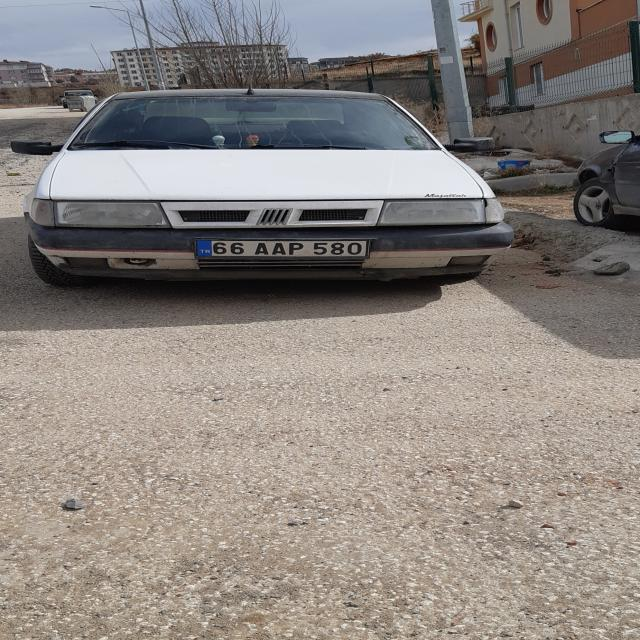plate: (195, 240, 369, 257)
